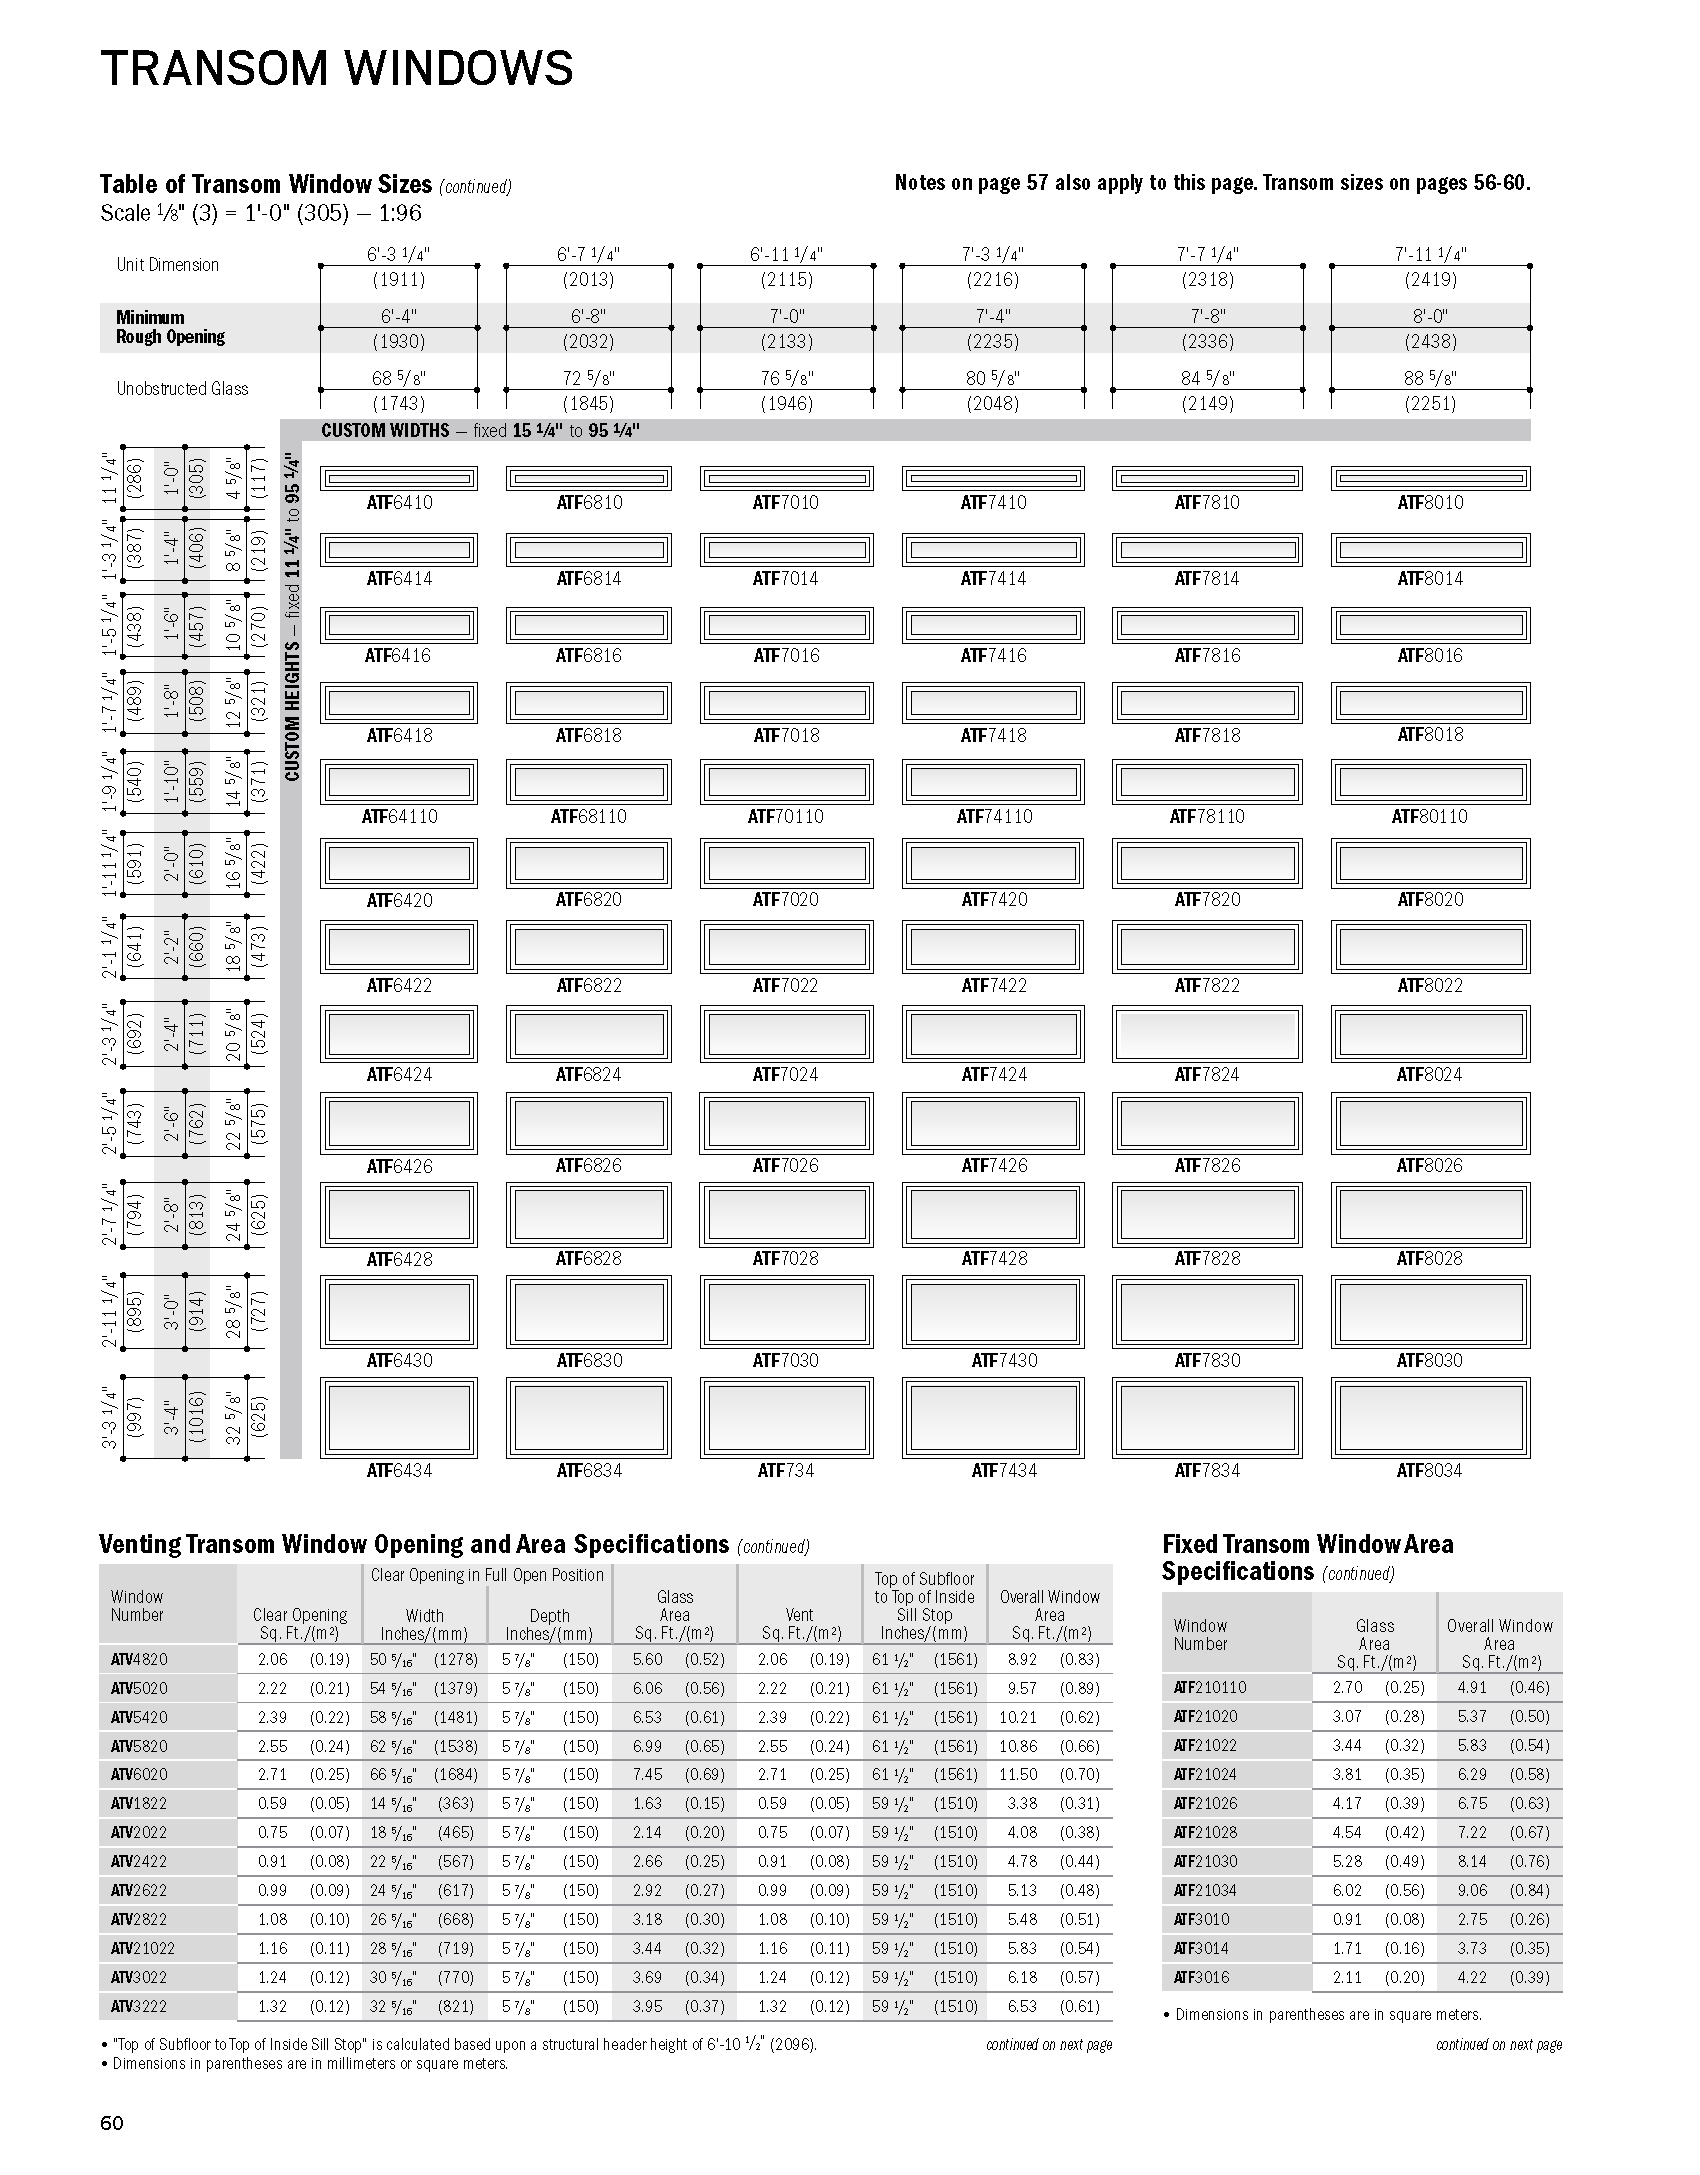tabledetected: (85, 237, 1536, 1492), (97, 1564, 1112, 2020), (1162, 1592, 1561, 1991)
